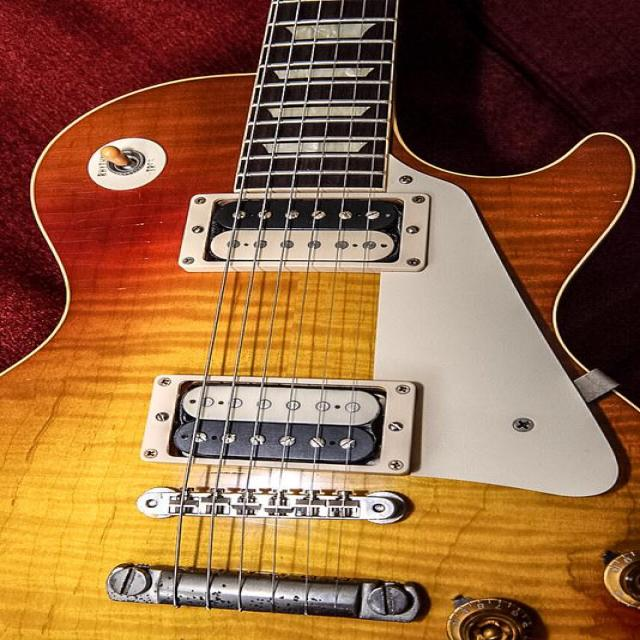guitar: (2, 0, 635, 638)
